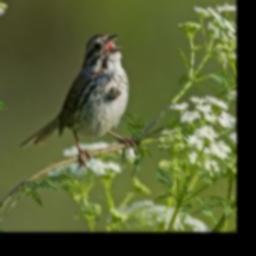Sparrow: (19, 31, 143, 172)
